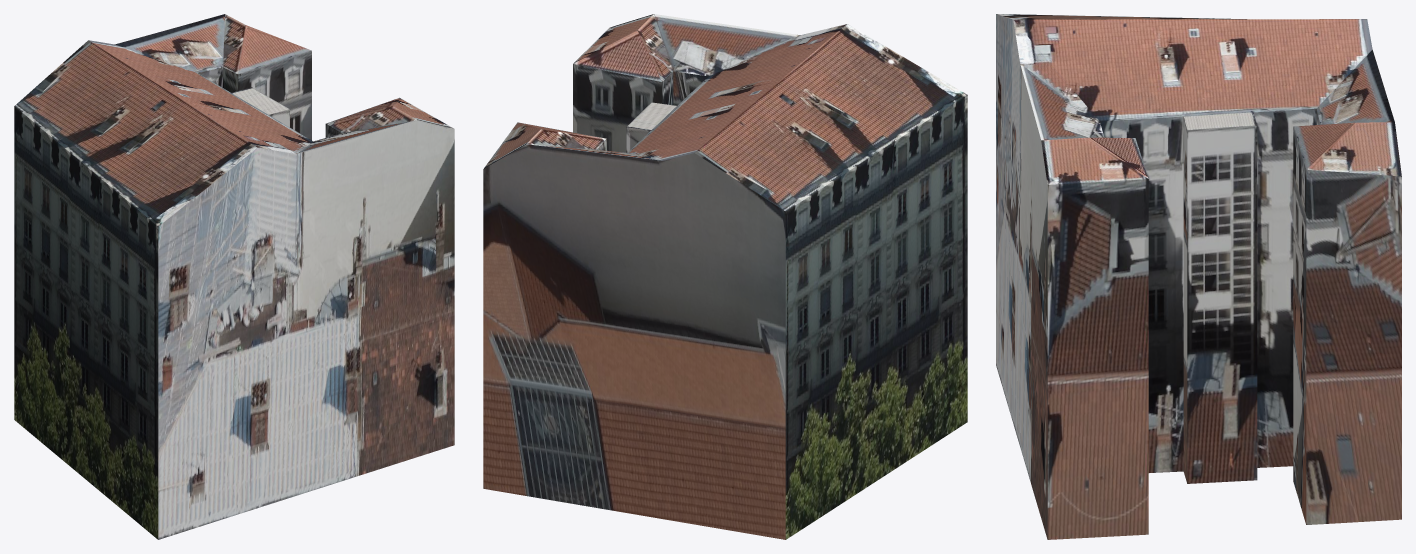
The picture shows the model from 3 angles, left to right: view 1: azimuth 30°, elevation 25°; view 2: azimuth 150°, elevation 25°; view 3: azimuth 270°, elevation 25°; orthographic projection. The views are drawn at different scales.
Parts seen in each view (by area): view 1: Z_UP; view 2: Z_UP; view 3: Z_UP.
Part boxes in pixels (x1,y1,x2,y2): Z_UP: (14, 14, 454, 539); Z_UP: (483, 14, 967, 539); Z_UP: (996, 14, 1401, 539).
Size of the model in its own units: 26.65 by 28.76 by 26.17.
2 materials, 1 textured.
